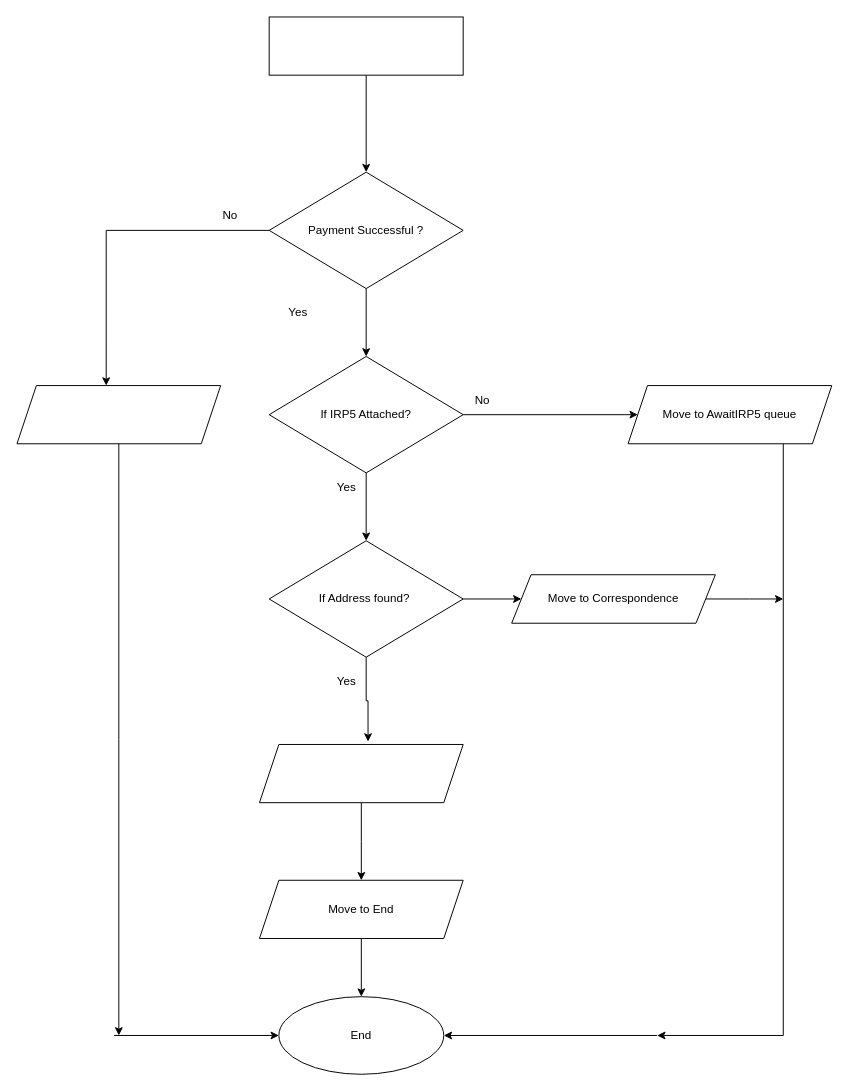
Some shapes in this 849 by 1091 pixel diagram are drawn without their labels. Each missing label, with the centre of its shape:
"Auto Issue correspondence" belongs at pixel 361 773.
"AwaitPayment" belongs at pixel 365 45.
"Move to ClaimAssessment" belongs at pixel 118 414.
